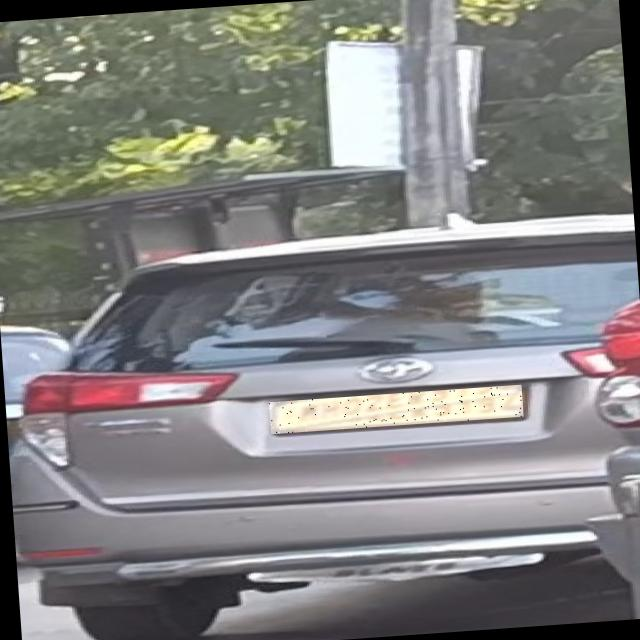Plate: (270, 385, 525, 435)
